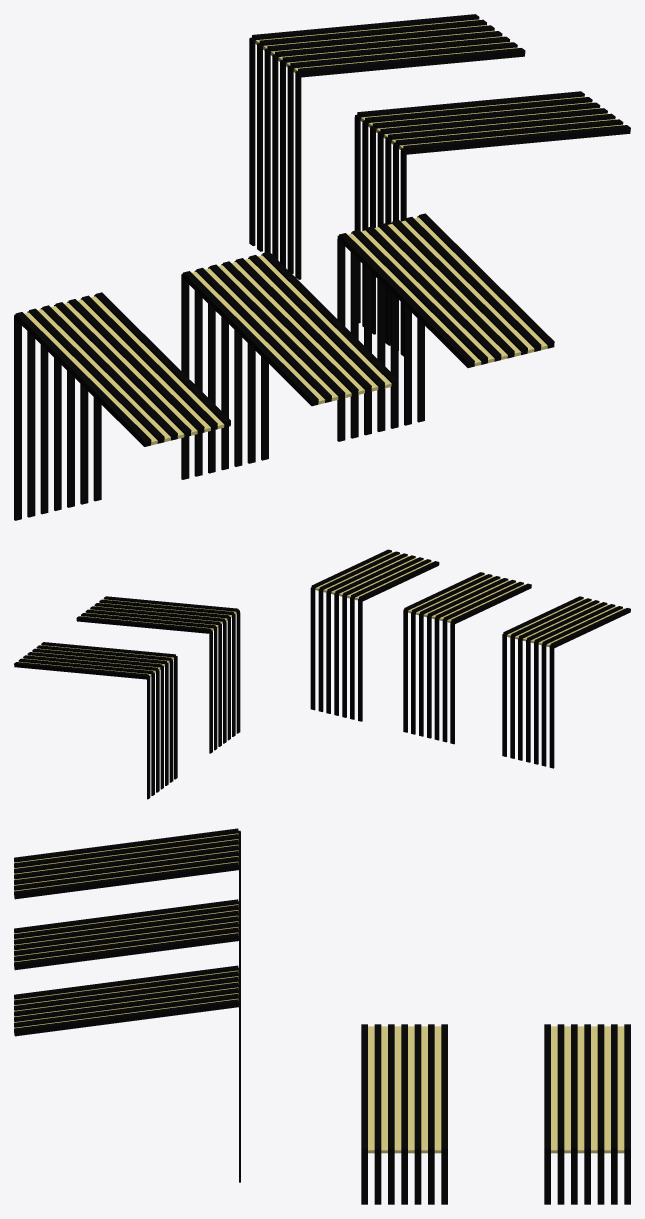
Rendered from ADORNO_MADERA_escalayubicacion.fbx.
The picture shows the model from 3 angles, top to bottom: view 1: azimuth 30°, elevation 25°; view 2: azimuth 150°, elevation 25°; view 3: azimuth 270°, elevation 25°; orthographic projection. The views are drawn at different scales.
Visible parts, largest first — view 1: BARRAS_JARDINES004, BARRAS_JARDINES003, BARRAS_JARDINES002, BARRAS_JARDINES, BARRAS_JARDINES001; view 2: BARRAS_JARDINES002, BARRAS_JARDINES003, BARRAS_JARDINES004, BARRAS_JARDINES001, BARRAS_JARDINES; view 3: BARRAS_JARDINES, BARRAS_JARDINES001, BARRAS_JARDINES002, BARRAS_JARDINES004, BARRAS_JARDINES003.
Part boxes in pixels (<box>): BARRAS_JARDINES004: <box>14,292,230,520</box>; BARRAS_JARDINES003: <box>181,251,398,479</box>; BARRAS_JARDINES002: <box>337,213,554,441</box>; BARRAS_JARDINES: <box>249,14,525,279</box>; BARRAS_JARDINES001: <box>354,91,630,356</box>; BARRAS_JARDINES002: <box>310,549,439,721</box>; BARRAS_JARDINES003: <box>403,572,531,744</box>; BARRAS_JARDINES004: <box>502,596,630,768</box>; BARRAS_JARDINES001: <box>76,596,240,753</box>; BARRAS_JARDINES: <box>14,642,177,799</box>; BARRAS_JARDINES: <box>544,1024,630,1204</box>; BARRAS_JARDINES001: <box>361,1024,447,1204</box>; BARRAS_JARDINES002: <box>14,965,240,1182</box>; BARRAS_JARDINES004: <box>14,828,240,901</box>; BARRAS_JARDINES003: <box>14,899,240,970</box>.
Size of the model in its own units: 741 by 214 by 665.
